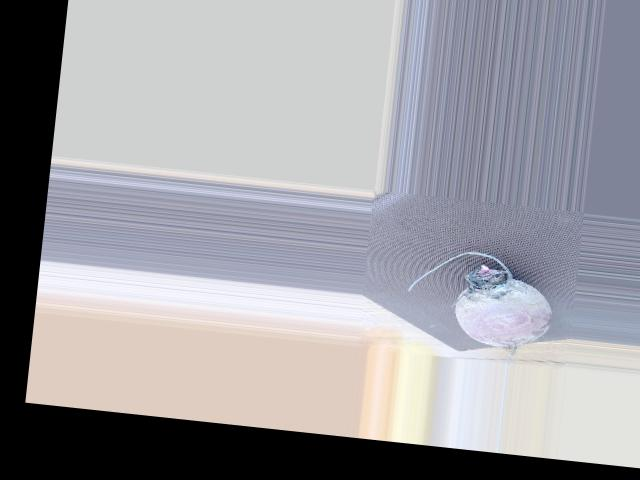beet: (401, 244, 558, 368)
